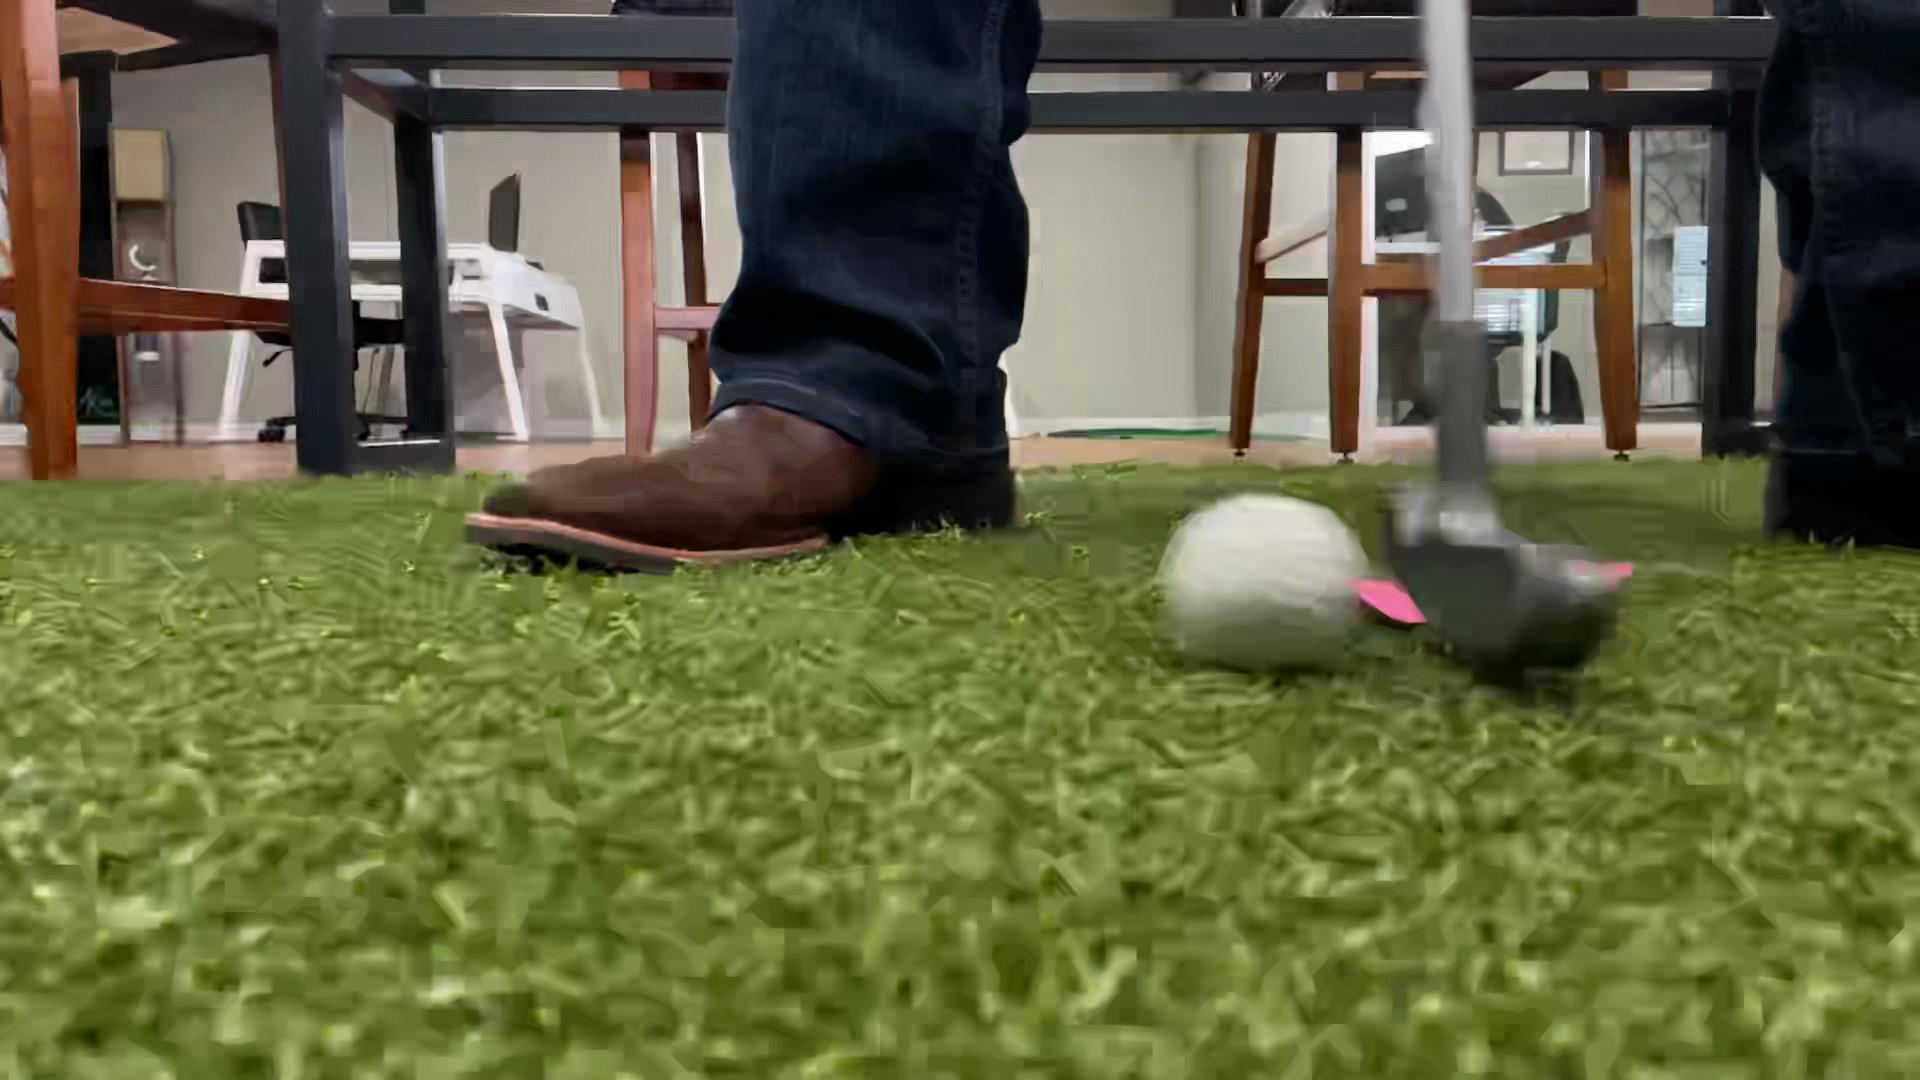golfball: (1157, 497, 1368, 674)
